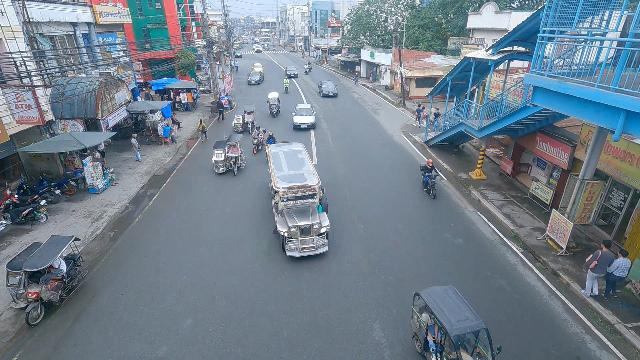car: (291, 103, 317, 131), (317, 79, 339, 98), (247, 71, 264, 85), (285, 65, 299, 78), (251, 62, 264, 76), (234, 50, 243, 59), (254, 45, 262, 53)
jeepney: (265, 141, 330, 261)
motorcycle: (419, 158, 442, 199), (250, 125, 267, 155), (265, 132, 277, 153), (283, 76, 291, 94), (304, 63, 309, 75), (308, 61, 312, 72)
